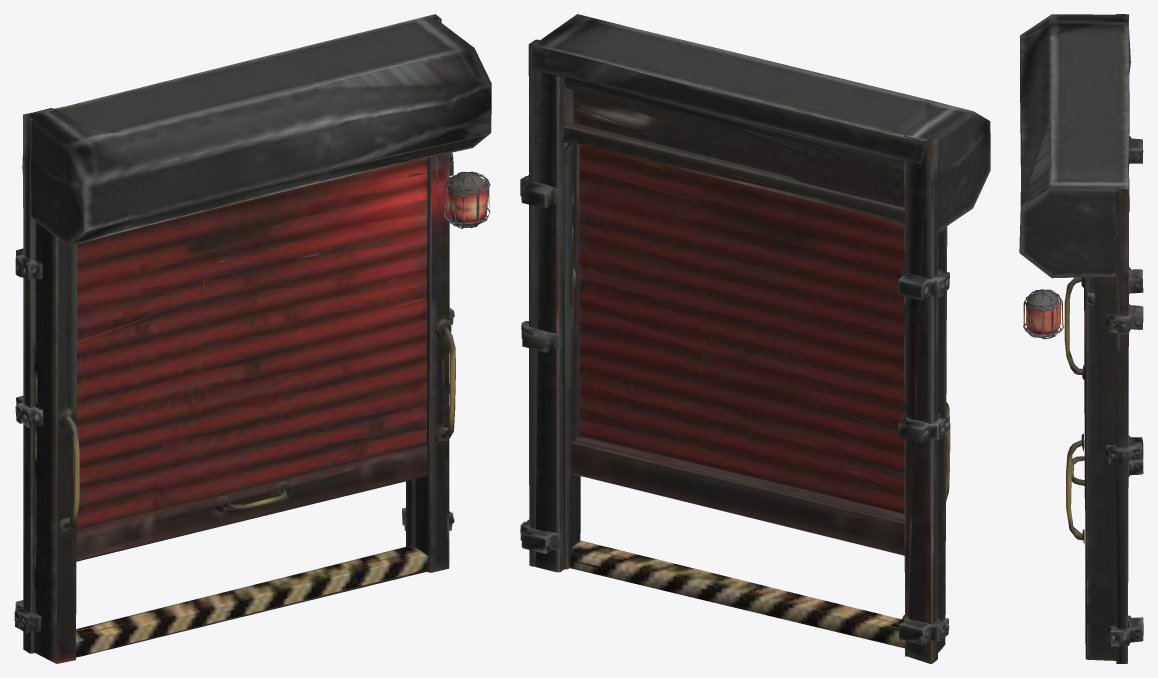
Rendered from shutter.glb.
3 renders of one model, left to right at view 1: azimuth 30°, elevation 25°; view 2: azimuth 150°, elevation 25°; view 3: azimuth 270°, elevation 25°, orthographic. The views are drawn at different scales.
Size of the model in its own units: 0.8511 by 1 by 0.2385.
1 material, 1 textured.
